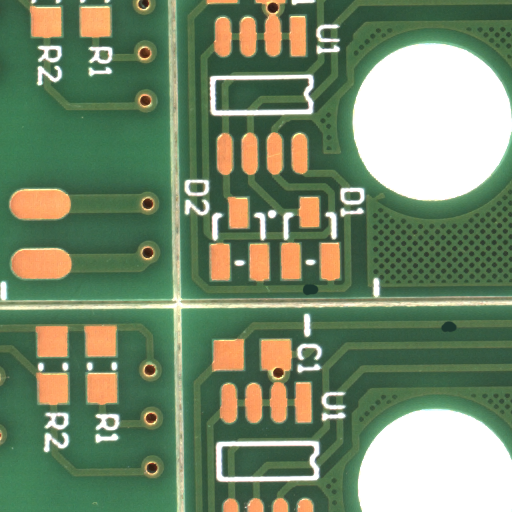Mouse_bite: (448, 326, 466, 339), (310, 289, 327, 302)
